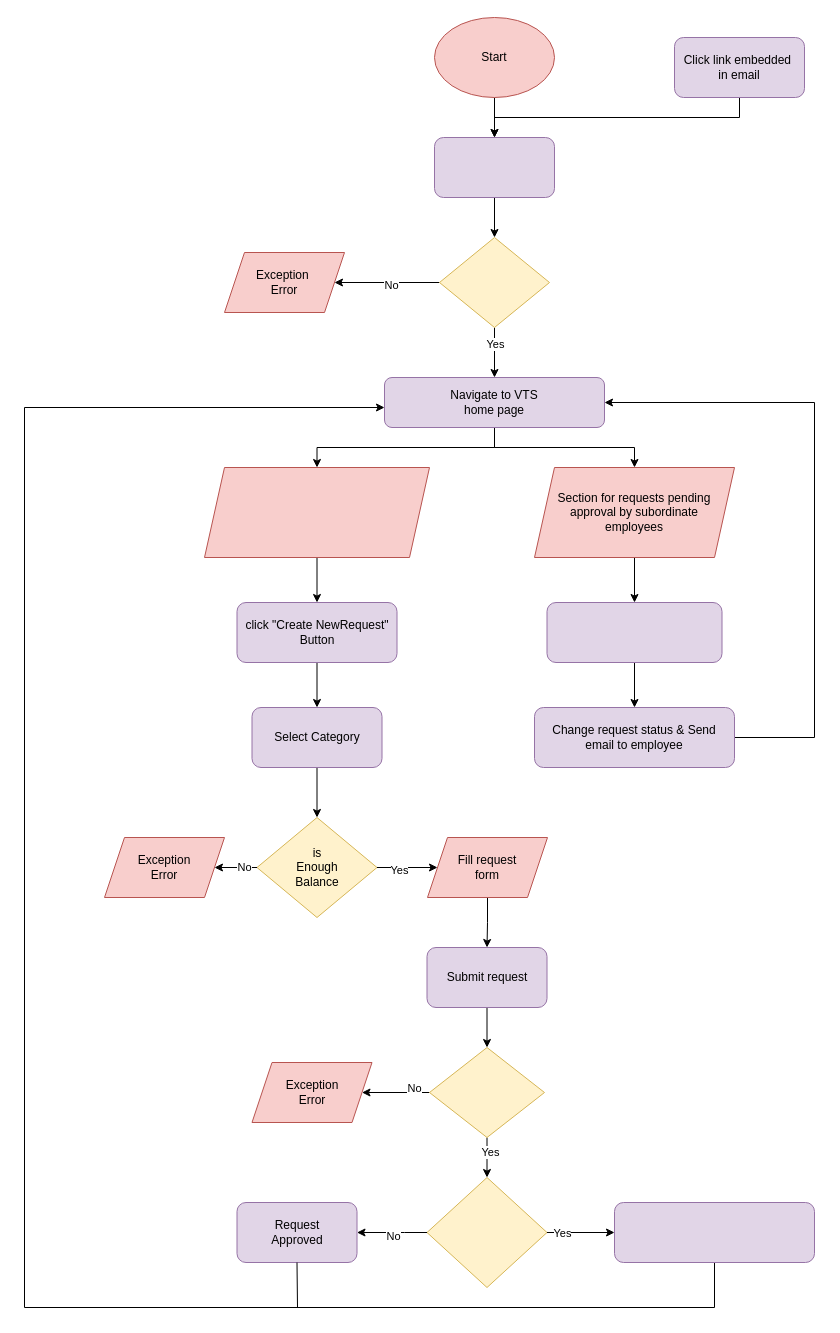
The diagram is 840 pixels wide and 1333 high, and some of its shapes have lost their labels. Here are the shapes that lost their labels. From the top down, the centre of each, then its label:
point 494,167: Login to portal
point 494,282: Is Authenticated
point 317,512: View of vacation requests status, vacation balance,
point 634,632: Approve, or deny request with explanation
point 486,1092: Request validation
point 486,1232: Requires Manager Approval
point 714,1232: Change request status to pending & Send email to manager
